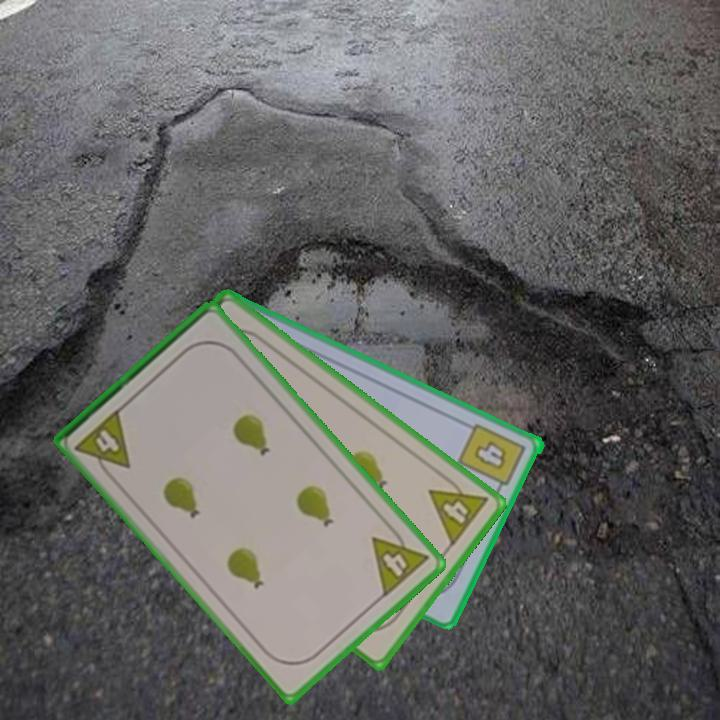4b: (455, 420, 530, 498)
4p: (425, 469, 492, 550), (368, 520, 432, 600), (72, 405, 134, 483)
